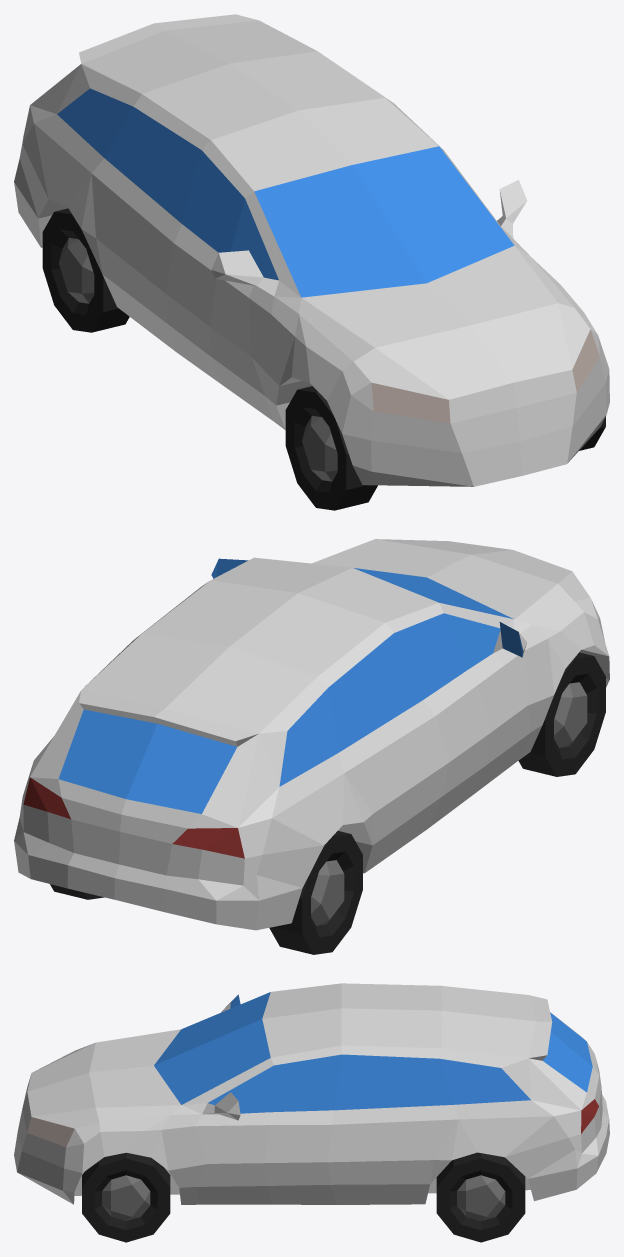
Rendered from PaperCarsSUV1.fbx.
3 views of the same model, one above another, from view 1: azimuth 30°, elevation 25°; view 2: azimuth 150°, elevation 25°; view 3: azimuth 270°, elevation 25° (orthographic). The views are drawn at different scales.
Visible parts, largest first — view 1: PaperCarsSUV1; view 2: PaperCarsSUV1; view 3: PaperCarsSUV1.
Part boxes in pixels (x1=…): PaperCarsSUV1: x1=14, y1=14, x2=609, y2=510; PaperCarsSUV1: x1=14, y1=539, x2=609, y2=954; PaperCarsSUV1: x1=14, y1=983, x2=609, y2=1242.
Bounding box in the file's own units: 219 × 172 × 495.
